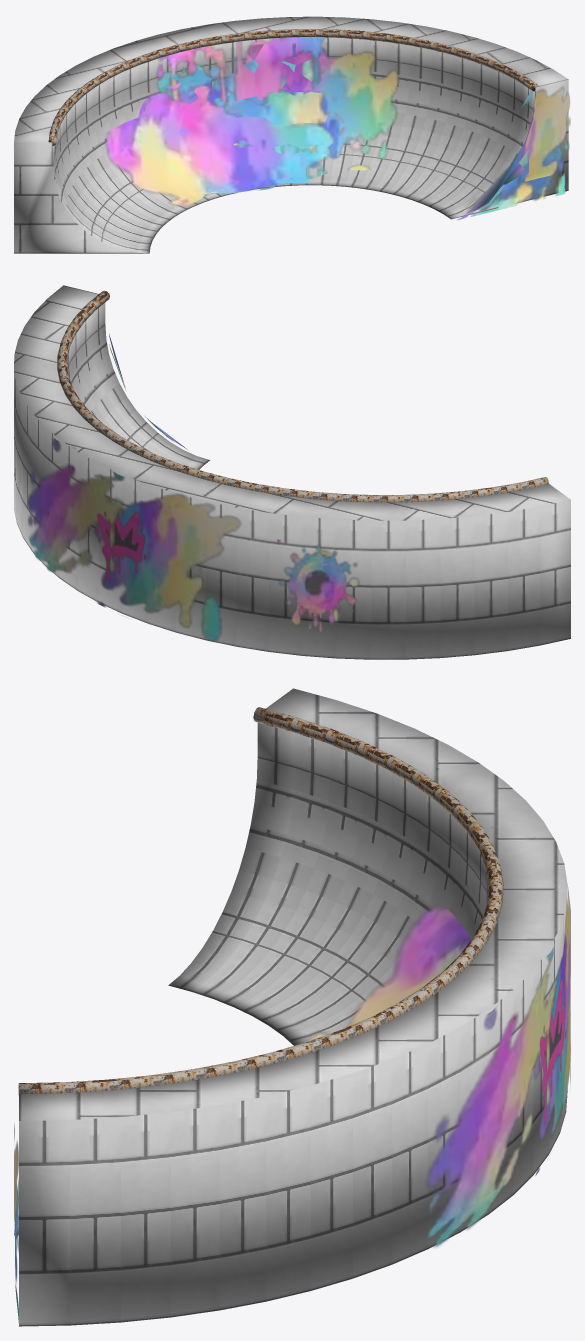
File: CurvedWall.glb
3 renders of one model, top to bottom at view 1: azimuth 30°, elevation 25°; view 2: azimuth 150°, elevation 25°; view 3: azimuth 270°, elevation 25°, orthographic. The views are drawn at different scales.
Visible parts, largest first — view 1: CurvedWall_Body, CurvedWall_Paint, CurvedWall_Coping; view 2: CurvedWall_Body, CurvedWall_Paint, CurvedWall_Coping, CurvedWall_Gfx; view 3: CurvedWall_Body, CurvedWall_Paint, CurvedWall_Coping, CurvedWall_Gfx.
Part boxes in pixels (box(x1,y1,x2,y2)): CurvedWall_Body: box(14, 16, 568, 253); CurvedWall_Paint: box(105, 36, 570, 220); CurvedWall_Coping: box(48, 29, 538, 145); CurvedWall_Body: box(14, 285, 570, 659); CurvedWall_Paint: box(27, 334, 359, 641); CurvedWall_Coping: box(57, 290, 548, 502); CurvedWall_Gfx: box(95, 500, 146, 580); CurvedWall_Body: box(19, 688, 567, 1326); CurvedWall_Paint: box(14, 882, 570, 1322); CurvedWall_Coping: box(18, 707, 503, 1094); CurvedWall_Gfx: box(538, 978, 566, 1123).
Bounding box in the file's own units: 8.63 × 2.01 × 4.67.
Materials: 4 (4 with a texture image).
